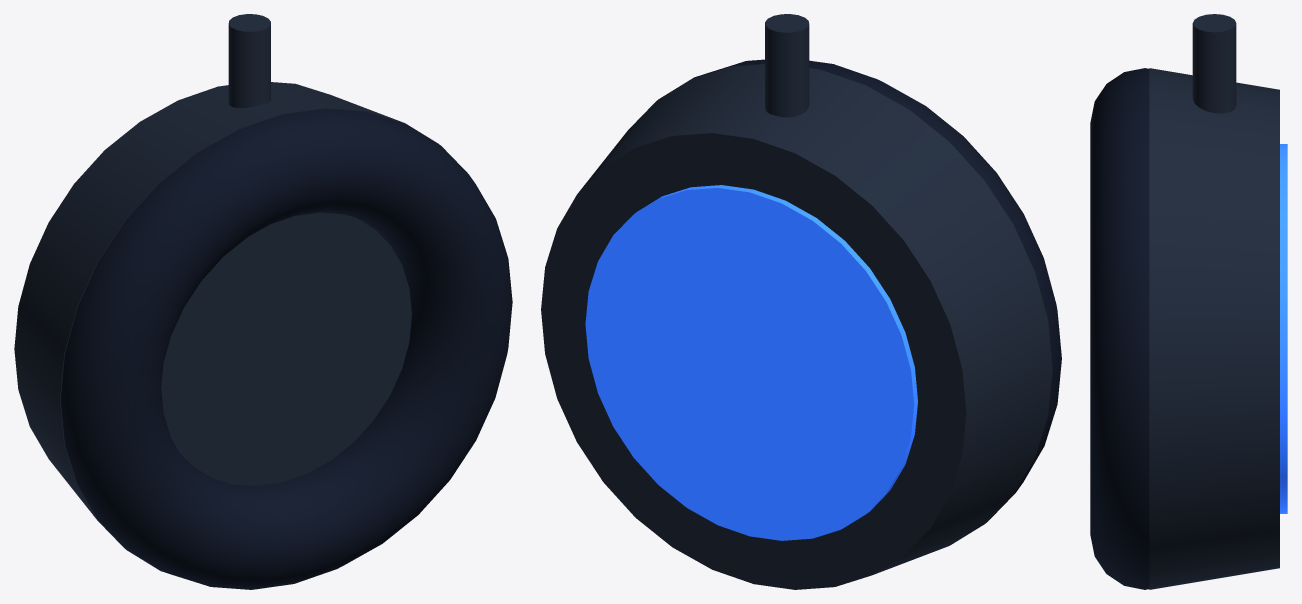
Rendered from audio-pod.glb.
The picture shows the model from 3 angles, left to right: view 1: azimuth 30°, elevation 25°; view 2: azimuth 150°, elevation 25°; view 3: azimuth 270°, elevation 25°; orthographic projection. The views are drawn at different scales.
Visible parts, largest first — view 1: VortexAcousticPod; view 2: VortexAcousticPod; view 3: VortexAcousticPod.
Part boxes in pixels (bbox=[...]): VortexAcousticPod: bbox=[14, 14, 512, 589]; VortexAcousticPod: bbox=[541, 14, 1061, 589]; VortexAcousticPod: bbox=[1090, 14, 1287, 589].
Size of the model in its own units: 2.4 by 2.75 by 0.905.
